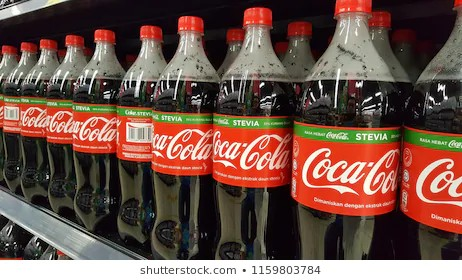coke-bottle-2l: (292, 1, 408, 259), (213, 6, 292, 259), (149, 11, 214, 259), (113, 23, 168, 249), (71, 27, 125, 228), (46, 32, 90, 217), (19, 38, 65, 208)
